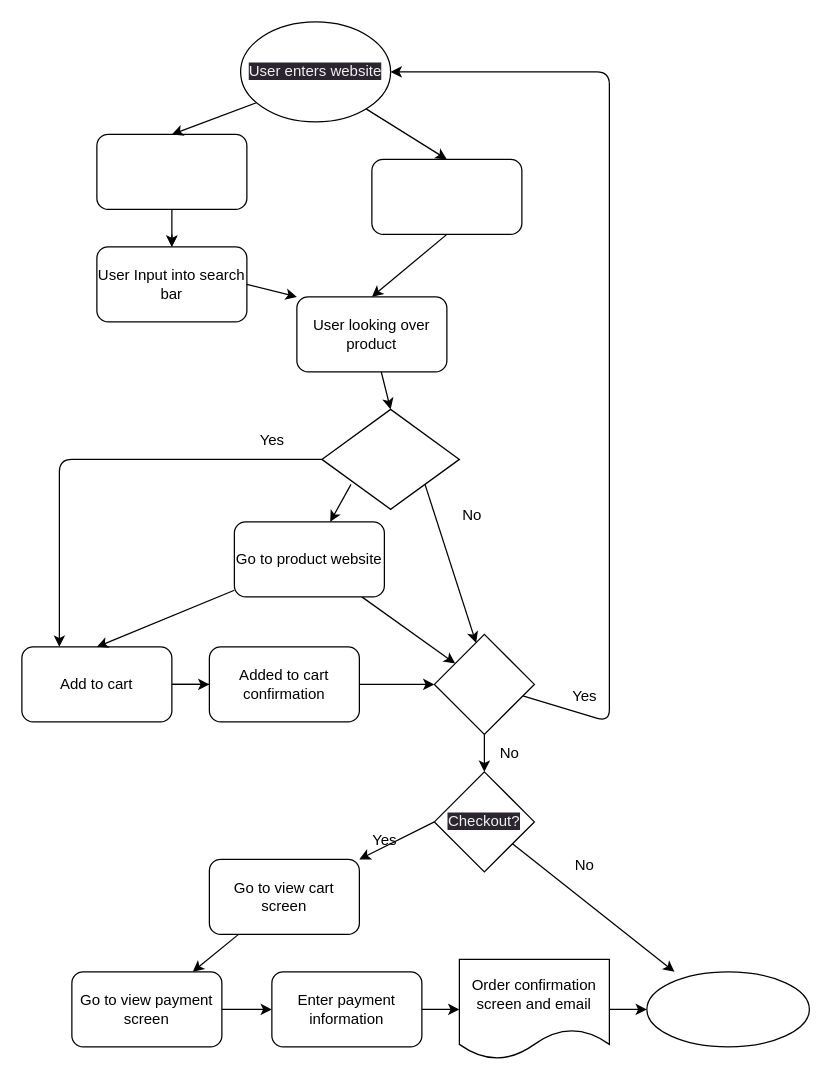
Image size: 831x1081. Some labels were removed from this diagram. The box of each missing label's shape, as (x1, y1, x2, y2) in pixels:
Continue Shopping?: (433, 633, 534, 734)
Explore products: (371, 158, 522, 234)
Leave Website: (646, 971, 809, 1047)
Search for products: (96, 133, 247, 209)
View specific product?: (321, 408, 459, 509)
